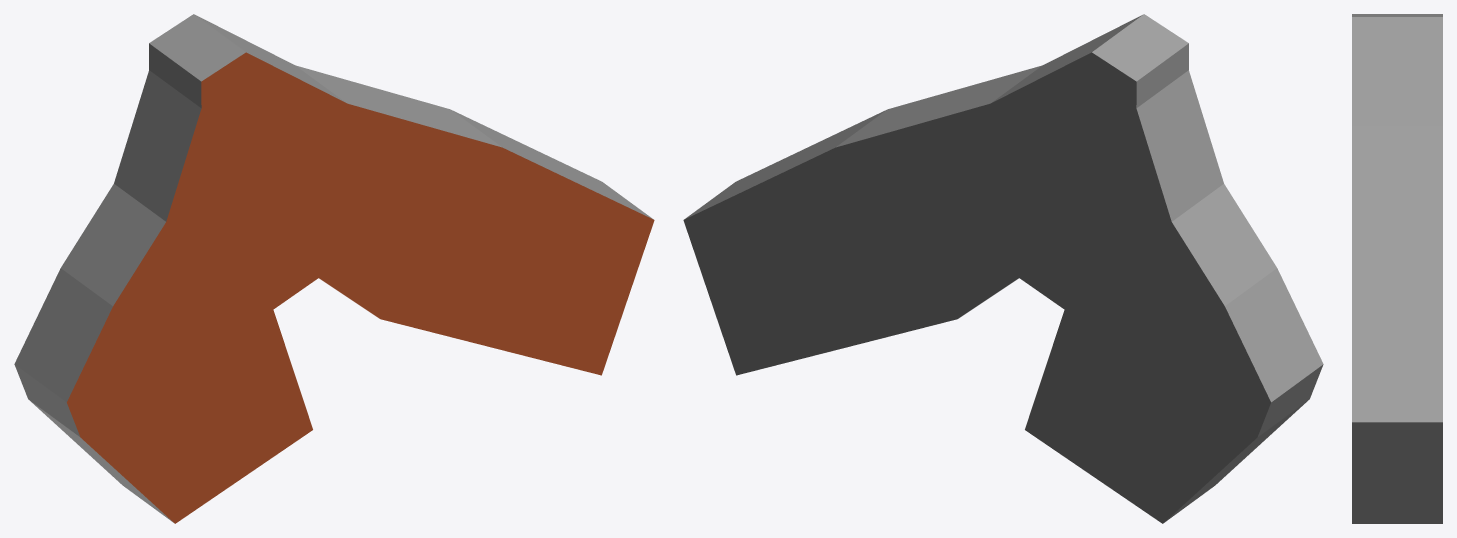
File: construction_0951_assumed_A_Casa_h6m.obj
The picture shows the model from 3 angles, left to right: view 1: azimuth 30°, elevation 25°; view 2: azimuth 150°, elevation 25°; view 3: azimuth 270°, elevation 25°; orthographic projection. The views are drawn at different scales.
Visible parts, largest first — view 1: construction_0951_assumed_A_Casa; view 2: construction_0951_assumed_A_Casa; view 3: construction_0951_assumed_A_Casa.
Boxes of the visible parts, bbox=[...] form: construction_0951_assumed_A_Casa: bbox=[14, 14, 654, 523]; construction_0951_assumed_A_Casa: bbox=[683, 14, 1323, 523]; construction_0951_assumed_A_Casa: bbox=[1352, 14, 1442, 523].
Size of the model in its own units: 38.88 by 28.72 by 6.
